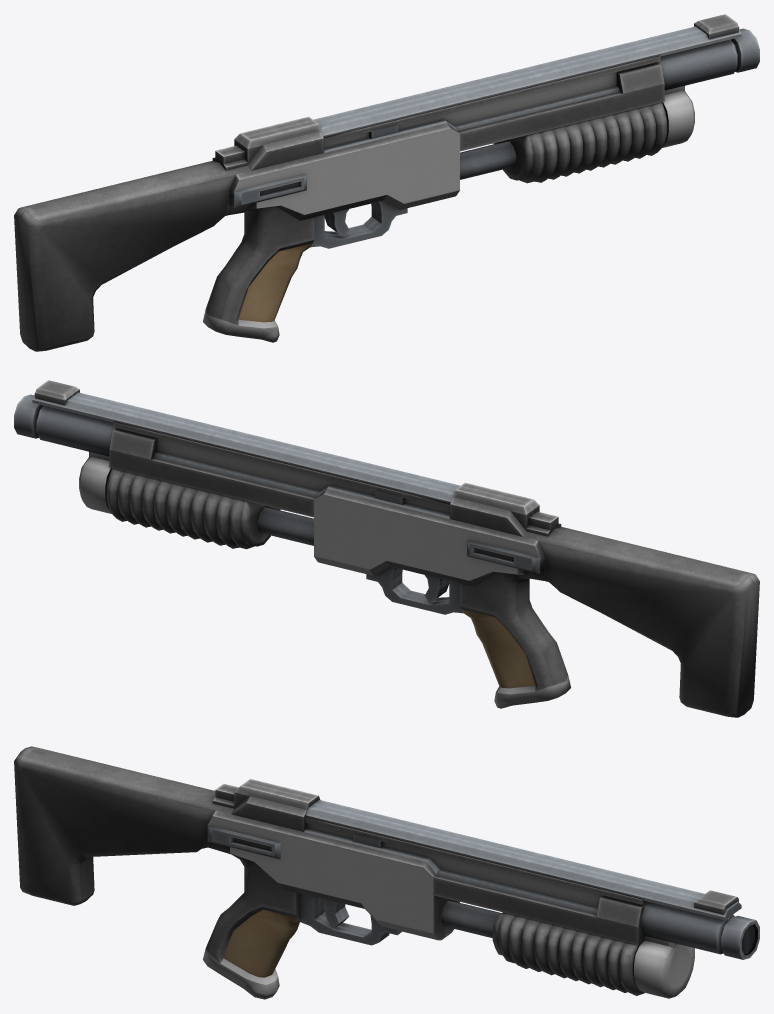
File: Shotgun.fbx
3 renders of one model, top to bottom at view 1: azimuth 30°, elevation 25°; view 2: azimuth 150°, elevation 25°; view 3: azimuth 330°, elevation 25°, orthographic.
Parts seen in each view (by area): view 1: Weapon_Shotgun, Weapon_Shotgun_Zatvor; view 2: Weapon_Shotgun, Weapon_Shotgun_Zatvor; view 3: Weapon_Shotgun, Weapon_Shotgun_Zatvor.
Part boxes in pixels (box(x1,y1,x2,y2)): Weapon_Shotgun: box(14, 14, 759, 351); Weapon_Shotgun_Zatvor: box(493, 102, 667, 183); Weapon_Shotgun: box(14, 380, 759, 717); Weapon_Shotgun_Zatvor: box(106, 468, 280, 549); Weapon_Shotgun: box(14, 746, 759, 999); Weapon_Shotgun_Zatvor: box(492, 912, 644, 995).
Bounding box in the file's own units: 118 × 32.05 × 11.57.
1 material, 1 textured.
